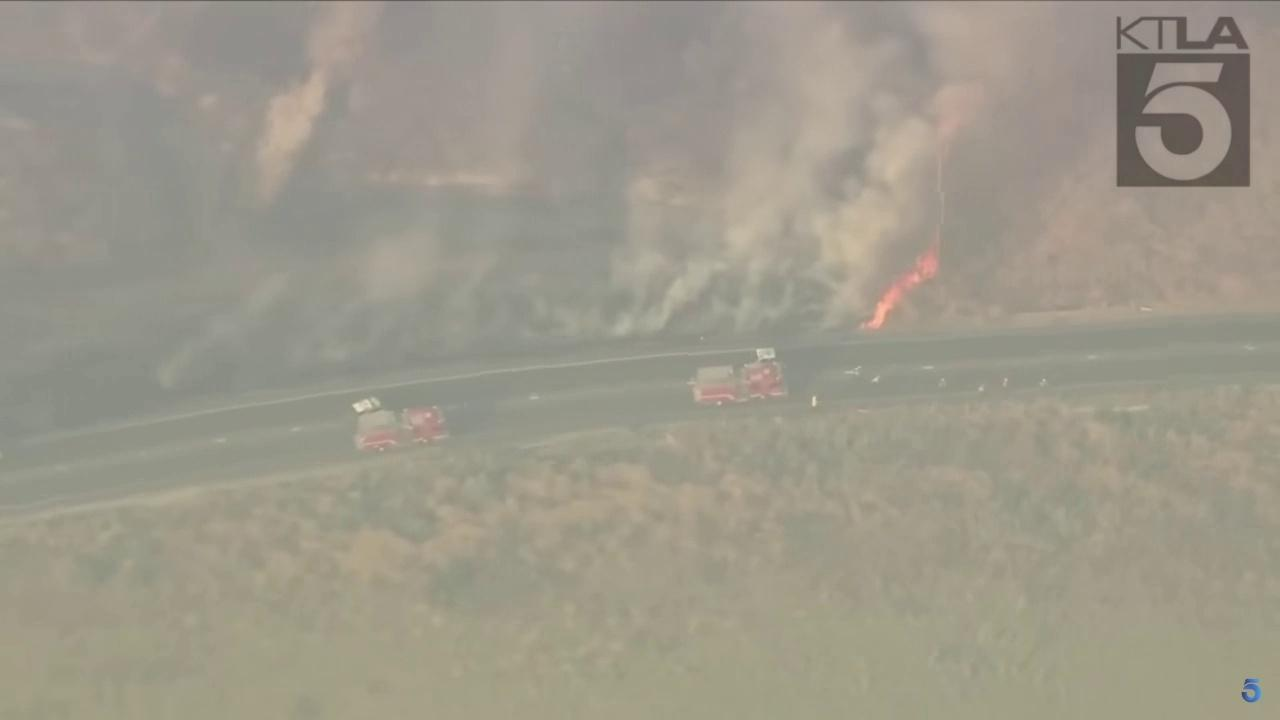fire: (856, 247, 940, 332)
smoke: (0, 0, 1065, 393)
